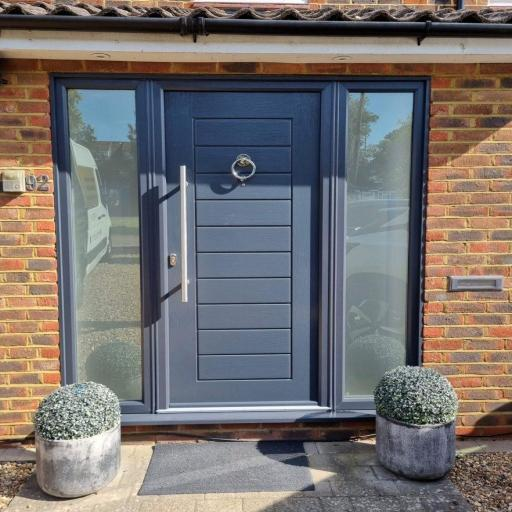door: (0, 59, 435, 445)
